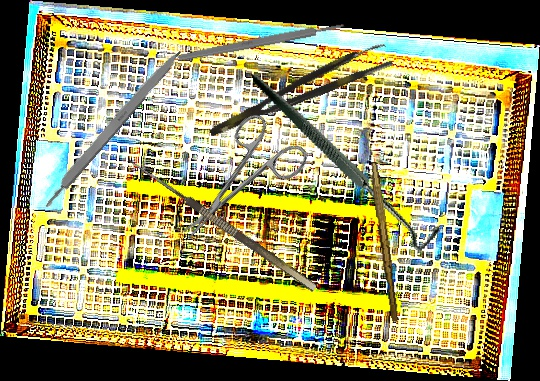Hook Surgical: (251, 34, 444, 283), (119, 154, 318, 303)
Iris Scissors: (156, 104, 313, 262)
Scalpel Handle: (36, 44, 186, 212), (177, 20, 346, 64), (366, 161, 402, 322)
Tissue Forceps: (202, 39, 394, 140)
